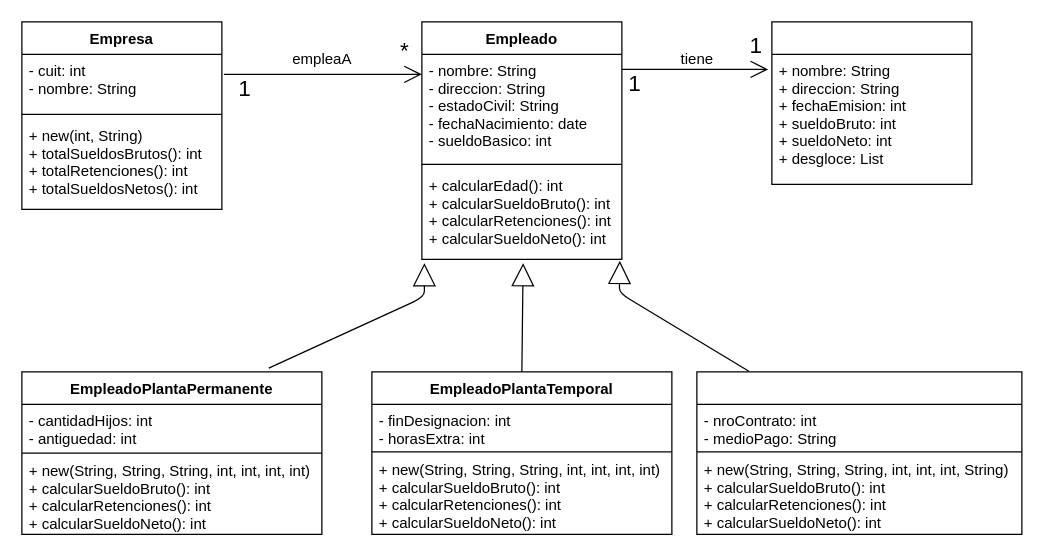
Some shapes in this 1044 by 556 pixel diagram are drawn without their labels. Each missing label, with the box of its shape:
EmpleadoContratado: (696, 371, 1022, 534)
Recibo: (771, 21, 972, 184)
